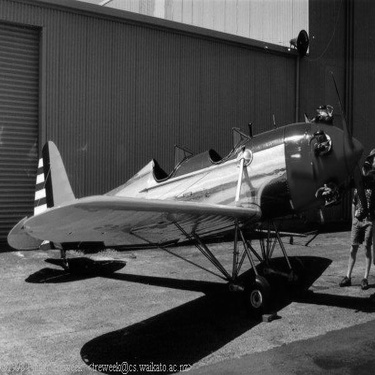airplane: (7, 102, 367, 305)
